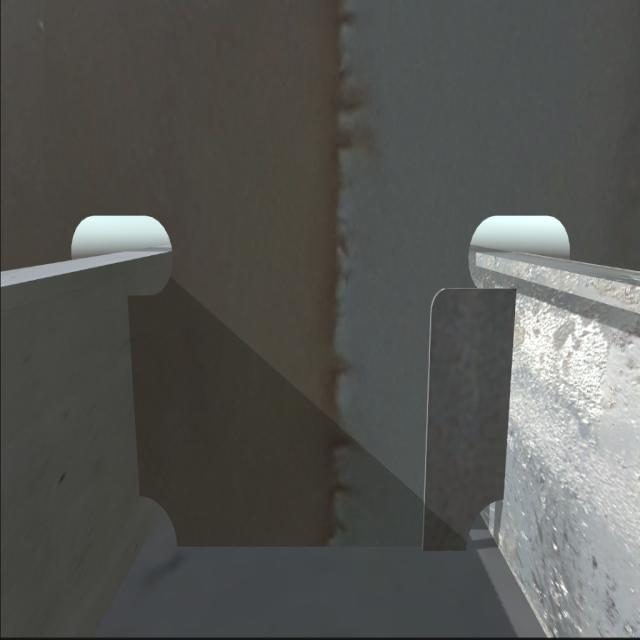fillet_hole: (135, 489, 178, 557), (464, 494, 504, 550)
fillet_yong_jeop_jang: (174, 537, 470, 559)
longi_yong_jeop_jang: (122, 293, 150, 504), (500, 283, 520, 502)
plate_CP05: (426, 286, 516, 554)
